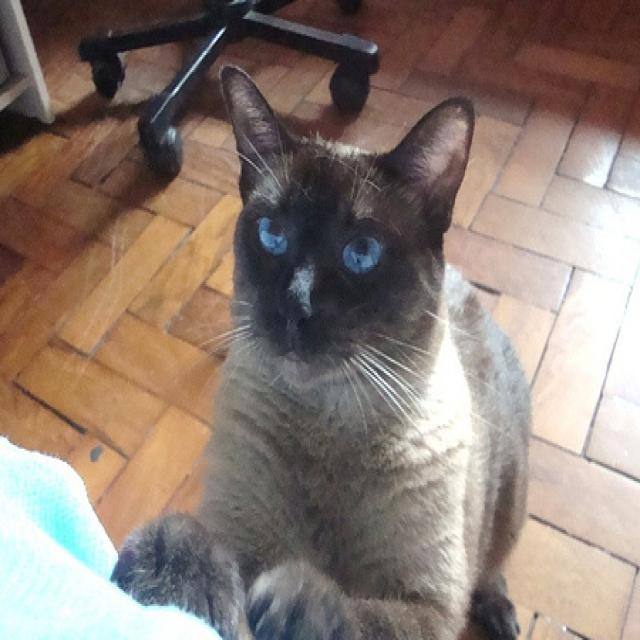Siamese: (105, 57, 535, 640)
